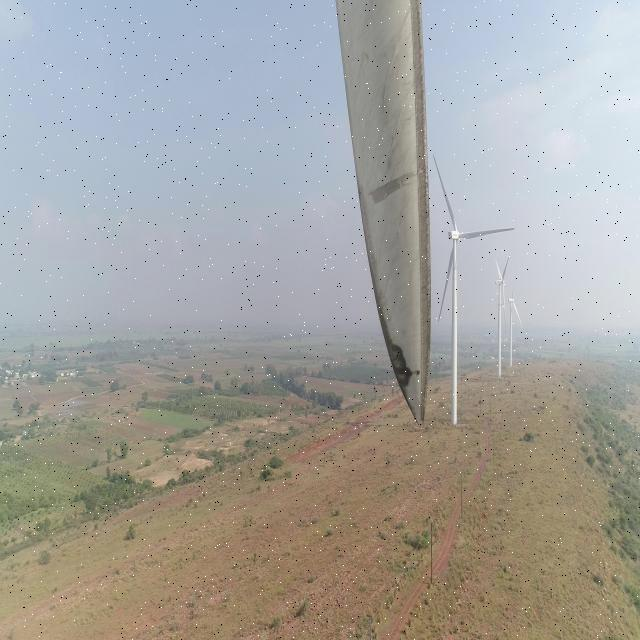Dirt: (335, 0, 427, 423)
Oil LEAKAGE: (388, 341, 422, 408)
Pin Hole: (413, 364, 423, 378)
